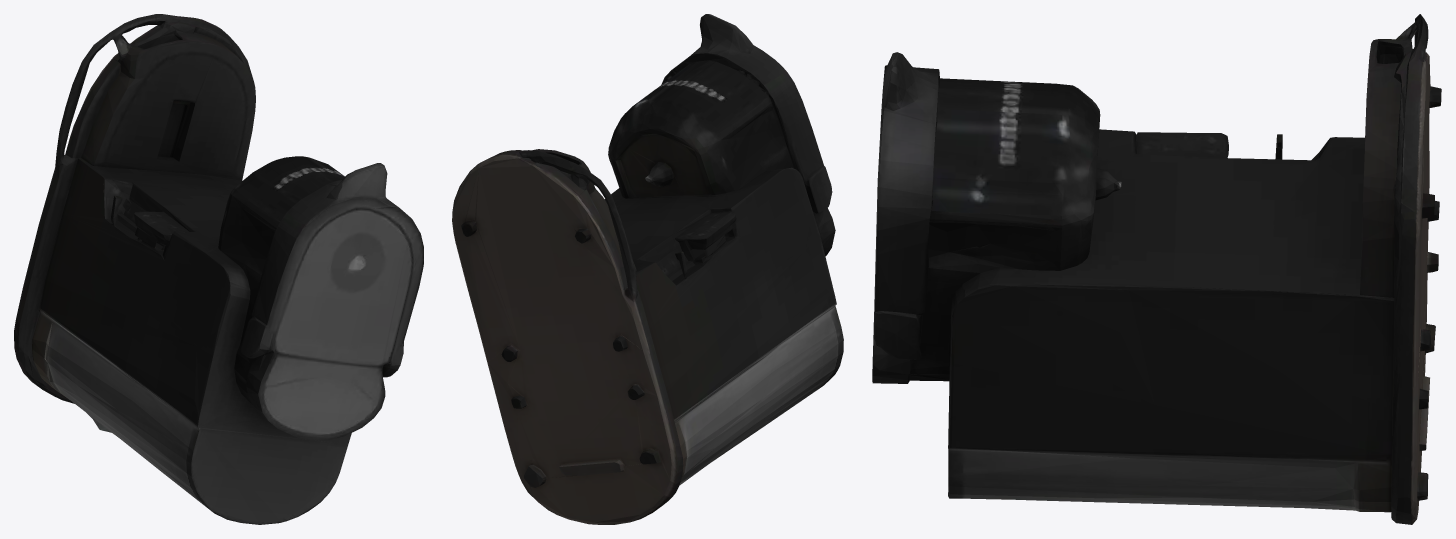
Rendered from demo_cm.glb.
The picture shows the model from 3 angles, left to right: view 1: azimuth 30°, elevation 25°; view 2: azimuth 150°, elevation 25°; view 3: azimuth 270°, elevation 25°; orthographic projection. The views are drawn at different scales.
Visible parts, largest first — view 1: geometry_0; view 2: geometry_0; view 3: geometry_0.
Part boxes in pixels (x1,y1,x2,y2): geometry_0: [14, 14, 423, 524]; geometry_0: [452, 14, 843, 524]; geometry_0: [872, 14, 1441, 524].
Size of the model in its own units: 0.2034 by 0.3109 by 0.3212.
Materials: 1 (1 with a texture image).
